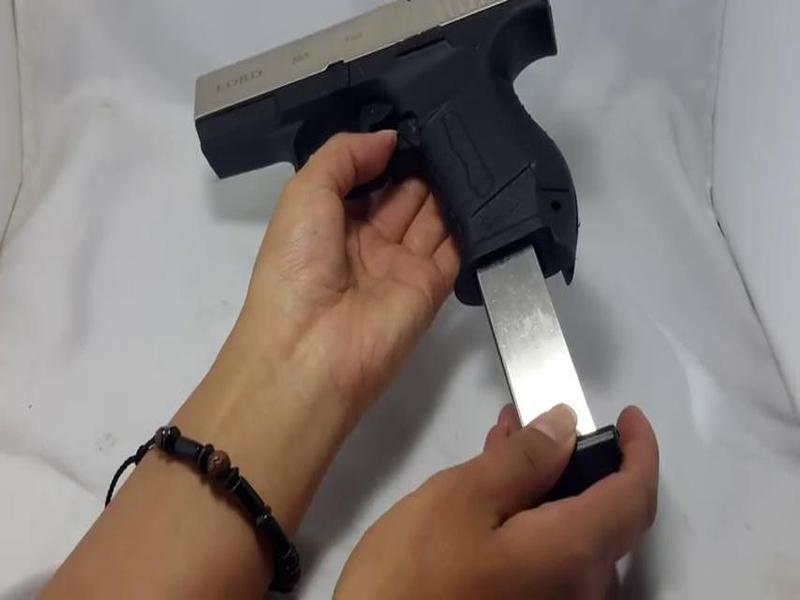Pistola: (166, 11, 604, 291)
